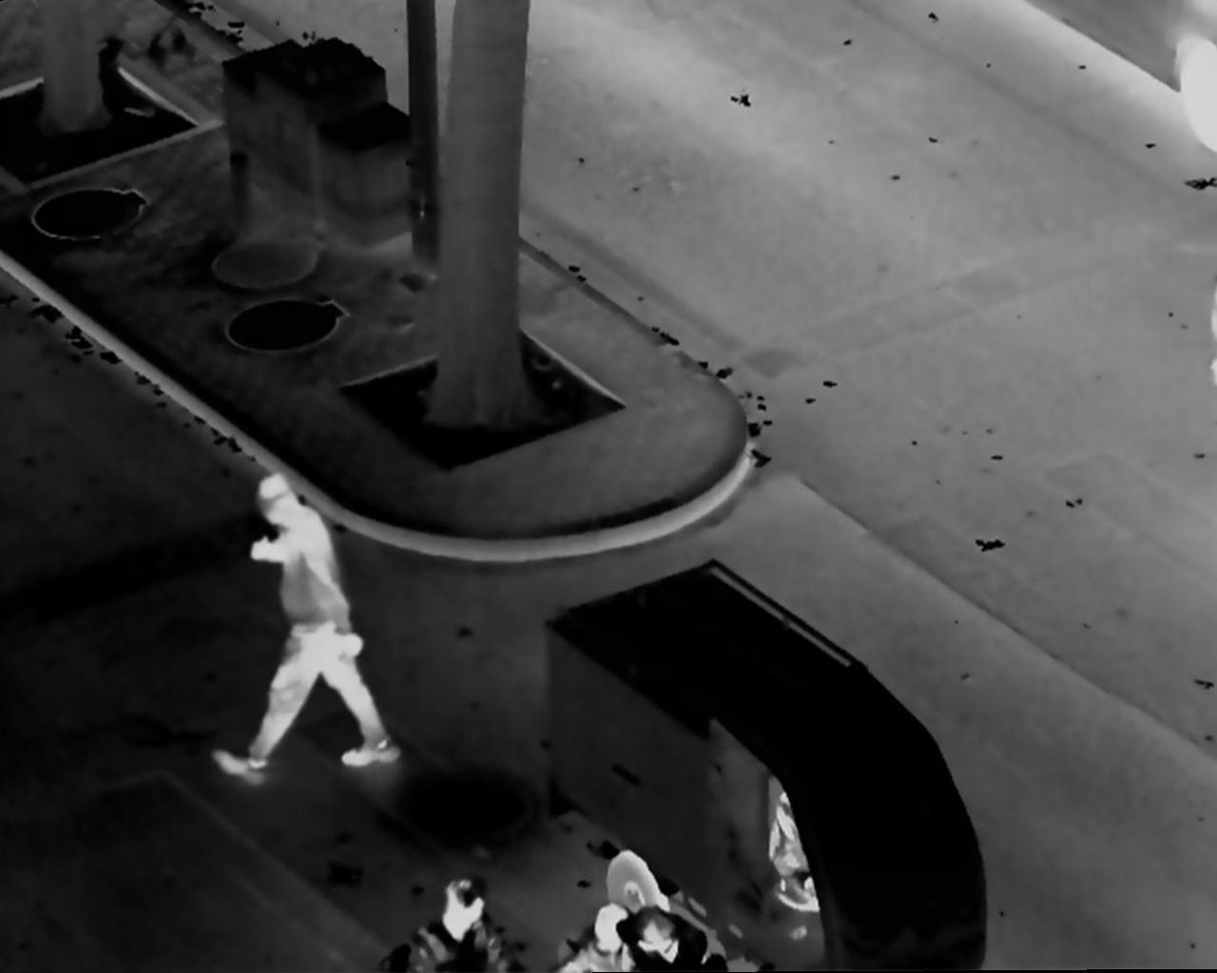person: (210, 472, 403, 780), (401, 868, 526, 972)
